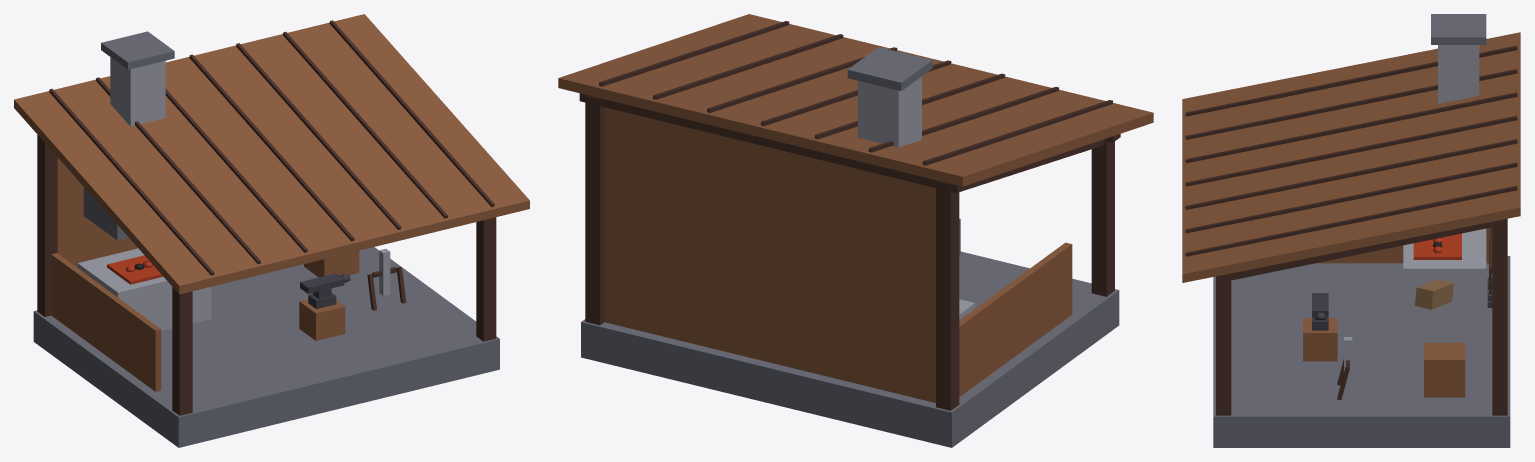
Rendered from smithy.glb.
The picture shows the model from 3 angles, left to right: view 1: azimuth 30°, elevation 25°; view 2: azimuth 150°, elevation 25°; view 3: azimuth 270°, elevation 25°; orthographic projection. The views are drawn at different scales.
Parts seen in each view (by area): view 1: floor; view 2: floor; view 3: floor.
Boxes of the visible parts, <box> form: floor: <box>14,14,529,447</box>; floor: <box>558,14,1153,447</box>; floor: <box>1182,14,1520,447</box>.
Size of the model in its own units: 6 by 4.81 by 4.9.
